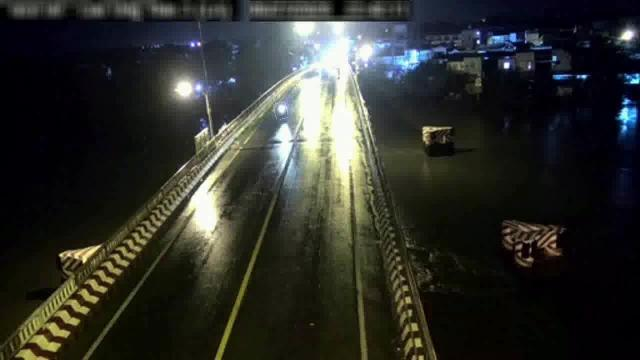Bike: (274, 102, 288, 120)
